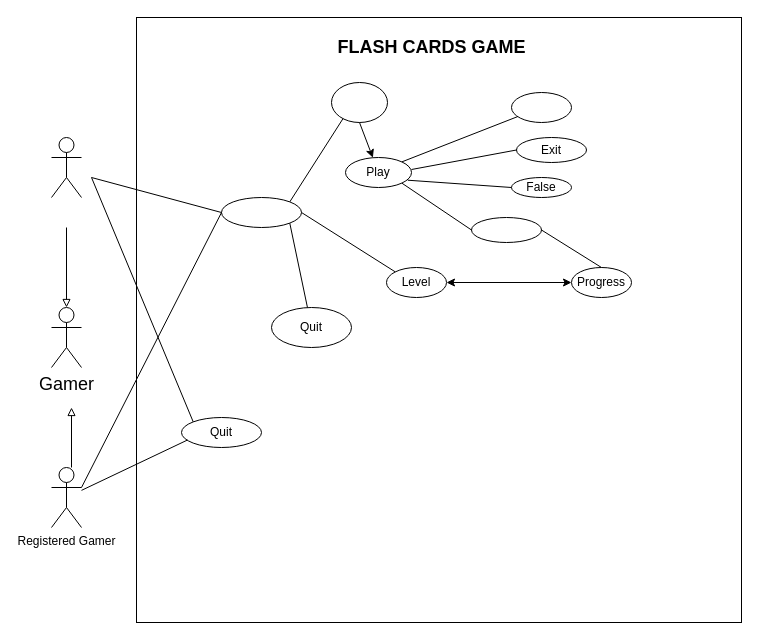
Some shapes in this 759 by 640 pixel diagram are drawn without their labels. Here are the shapes that lost their labels. From the top down, the centre of each, then its label:
(359,102): setTime
(541,107): Back
(66,167): New Gamer
(261,212): Login
(506,229): True
